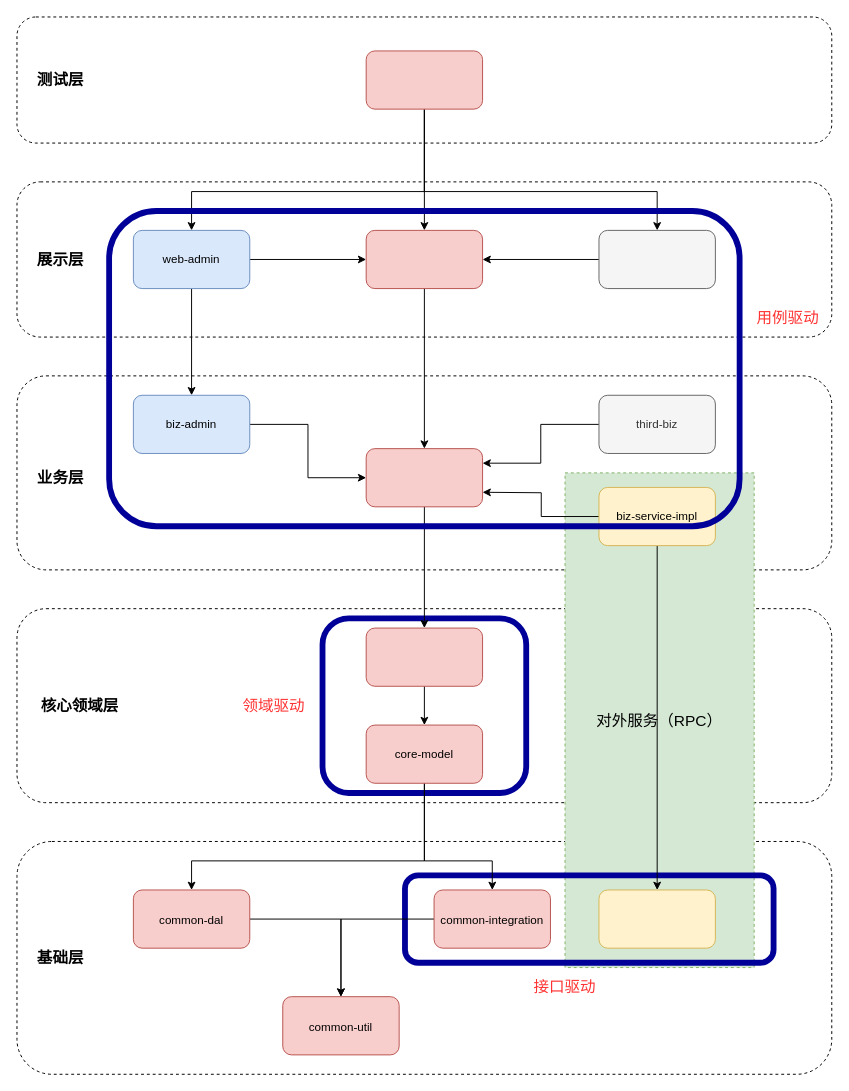
Some shapes in this 849 by 1091 pixel diagram are drawn without their labels. The shapes that lost their labels are listed below. From the top down, each one's centre as x and y in pixels, then its label:
the point at 424,79: test
the point at 424,259: web-home
the point at 656,259: web-third
the point at 424,477: biz-shared
the point at 424,656: core-service
the point at 656,918: common-service-facade
